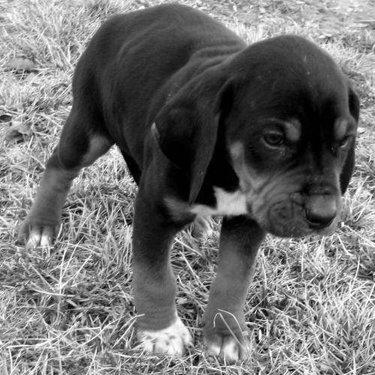dog: (13, 1, 363, 369)
